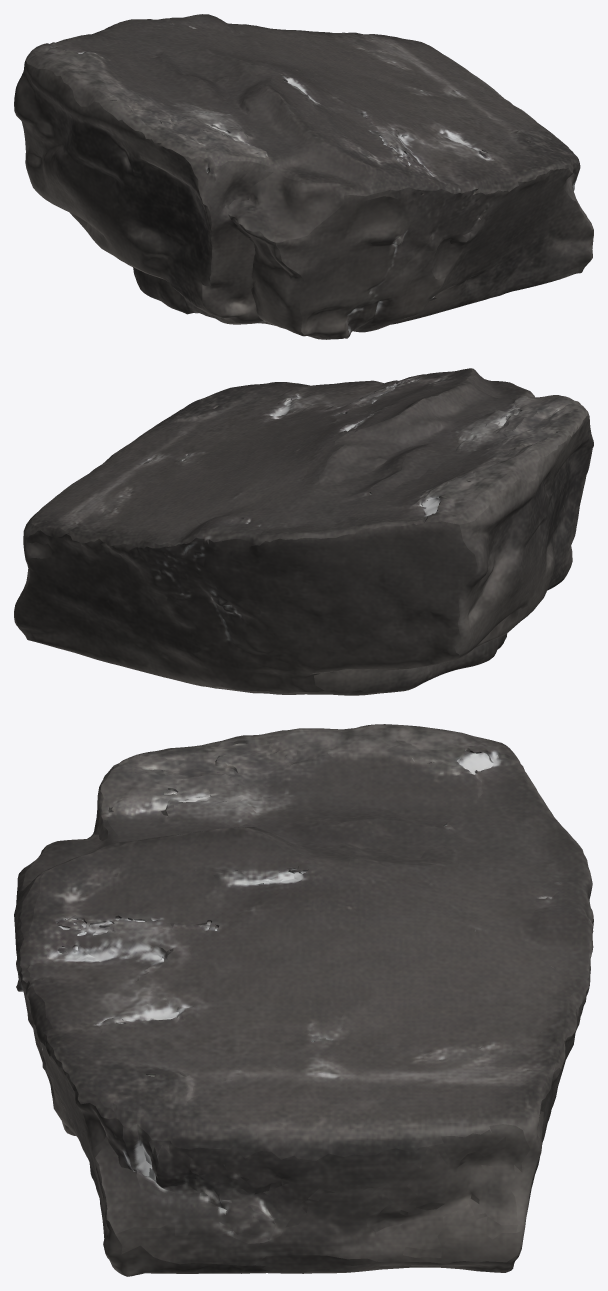
3 renders of one model, top to bottom at view 1: azimuth 30°, elevation 25°; view 2: azimuth 150°, elevation 25°; view 3: azimuth 270°, elevation 25°, orthographic. The views are drawn at different scales.
Visible parts, largest first — view 1: world; view 2: world; view 3: world.
Part boxes in pixels (left/top/right/bottom): world: left=14, top=14, right=593, bottom=339; world: left=14, top=368, right=593, bottom=695; world: left=14, top=724, right=593, bottom=1276.
Size of the model in its own units: 0.45 by 0.2194 by 0.3955.
Materials: 1 (1 with a texture image).
